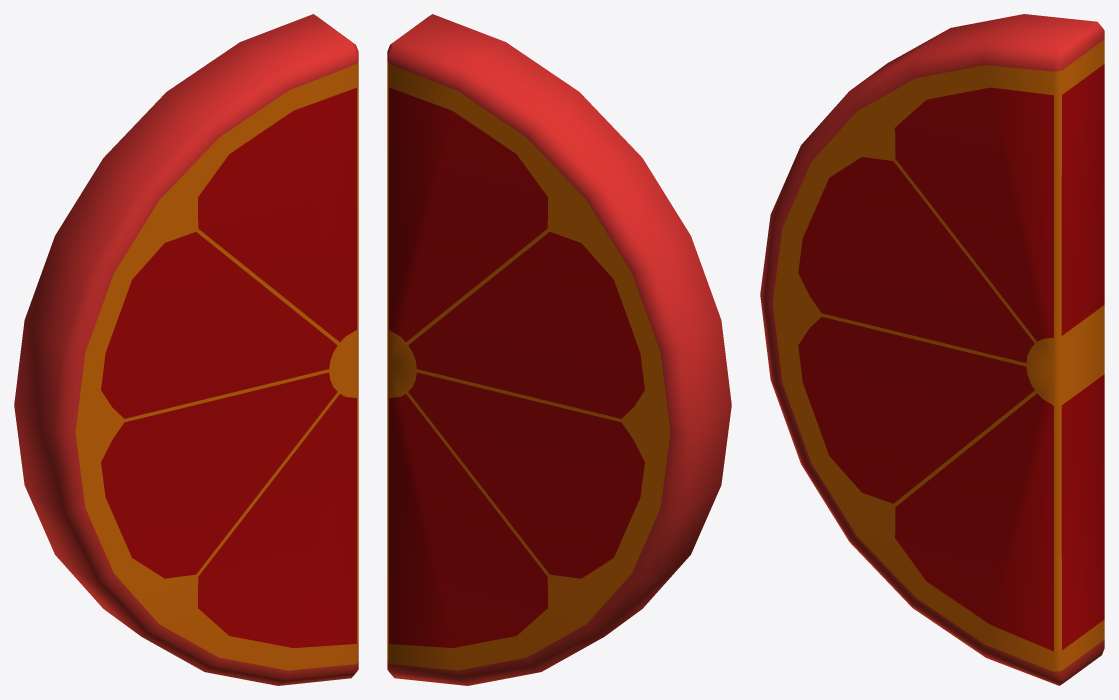
The model's file is Half_a_orange_red_wedge.fbx.
The picture shows the model from 3 angles, left to right: view 1: azimuth 30°, elevation 25°; view 2: azimuth 150°, elevation 25°; view 3: azimuth 330°, elevation 25°; orthographic projection.
Parts seen in each view (by area): view 1: Half_a_orange_red_wedge; view 2: Half_a_orange_red_wedge; view 3: Half_a_orange_red_wedge.
Boxes of the visible parts, bbox=[...] form: Half_a_orange_red_wedge: bbox=[14, 14, 358, 685]; Half_a_orange_red_wedge: bbox=[387, 14, 731, 685]; Half_a_orange_red_wedge: bbox=[760, 14, 1104, 685].
Bounding box in the file's own units: 62.81 × 126 × 17.45.
